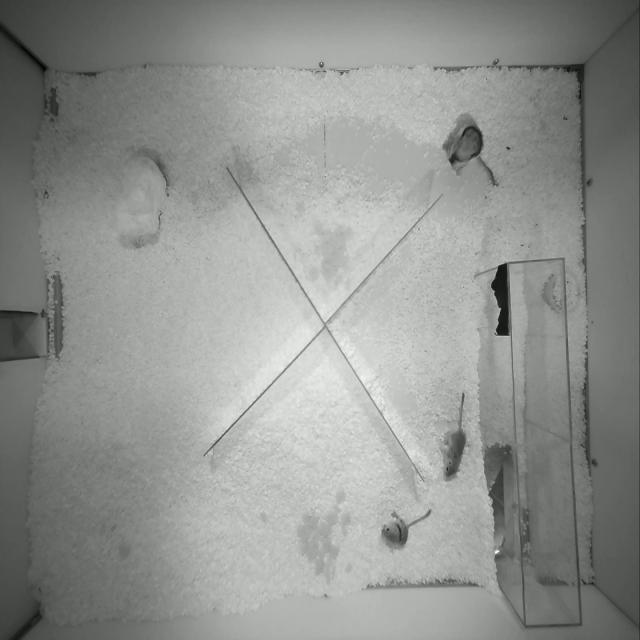adult_front: (449, 126, 496, 185)
pup_fluffy: (441, 392, 466, 477)
pup_h_stripe: (382, 510, 430, 545)
